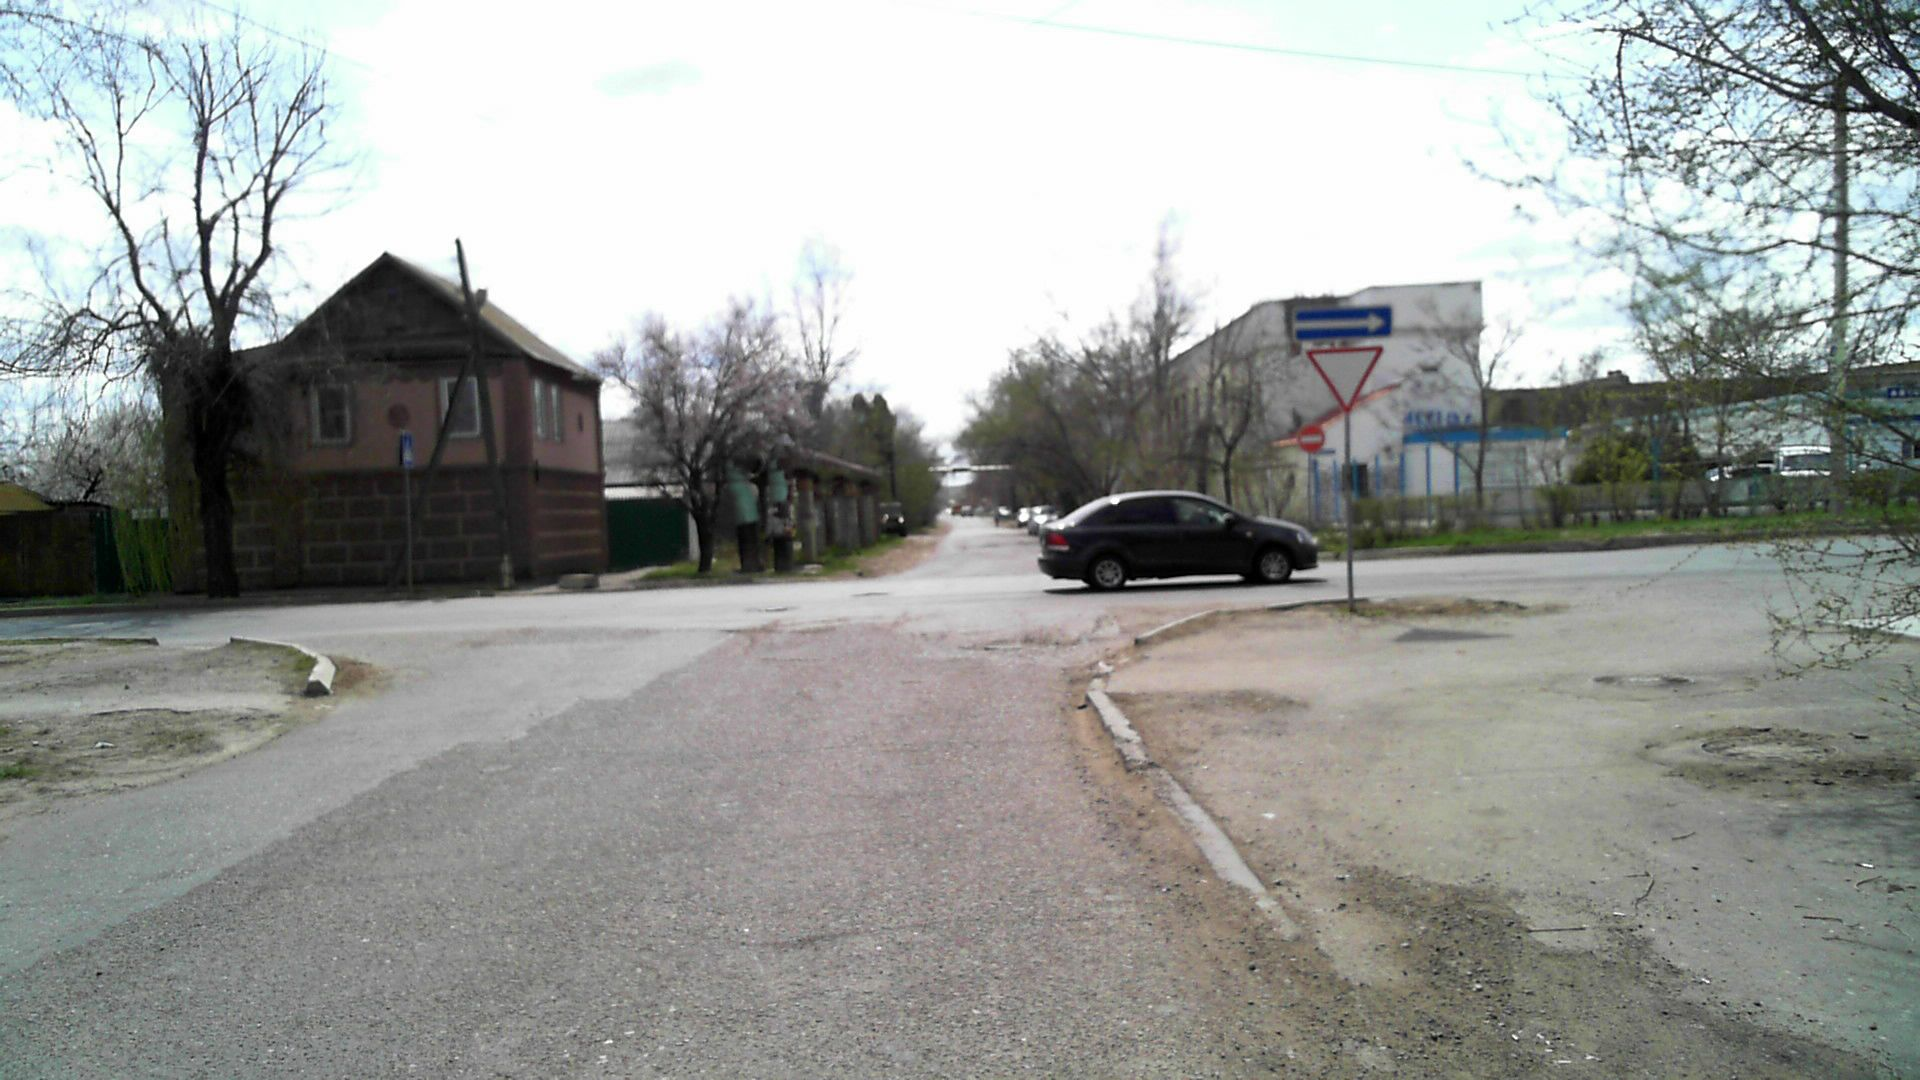One-Way Traffic: (1294, 306, 1393, 338)
